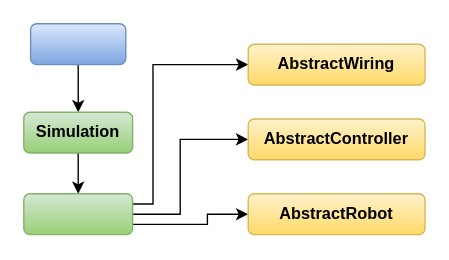
This 449x260 diagram has some shape labels left out. The centre of each missing label's shape, as x and y in pixels:
Agent: (x=77, y=213)
ThisSim: (x=77, y=43)
